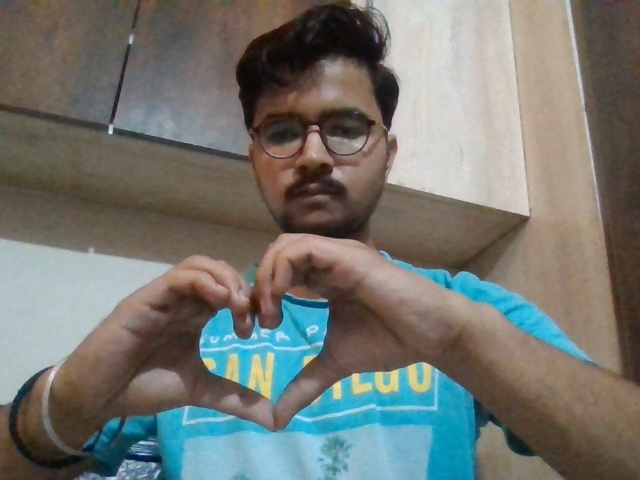iloveyou: (111, 218, 439, 436)
